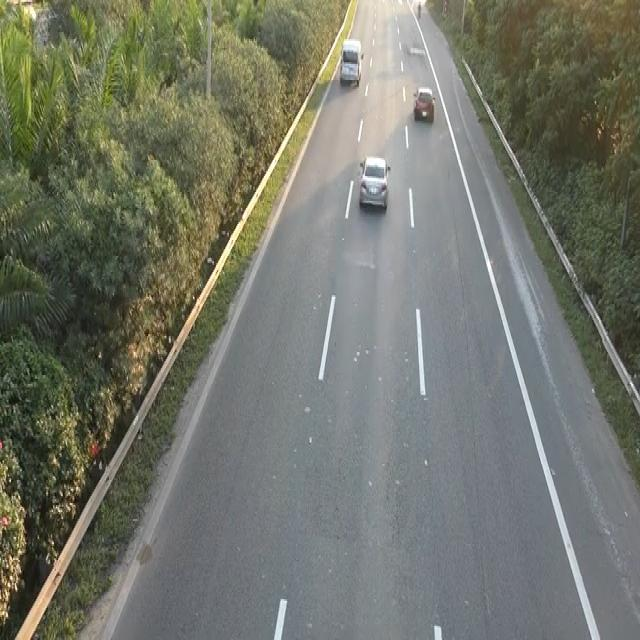bus: (356, 151, 393, 217), (412, 84, 435, 122)
jeep: (338, 36, 363, 87)
